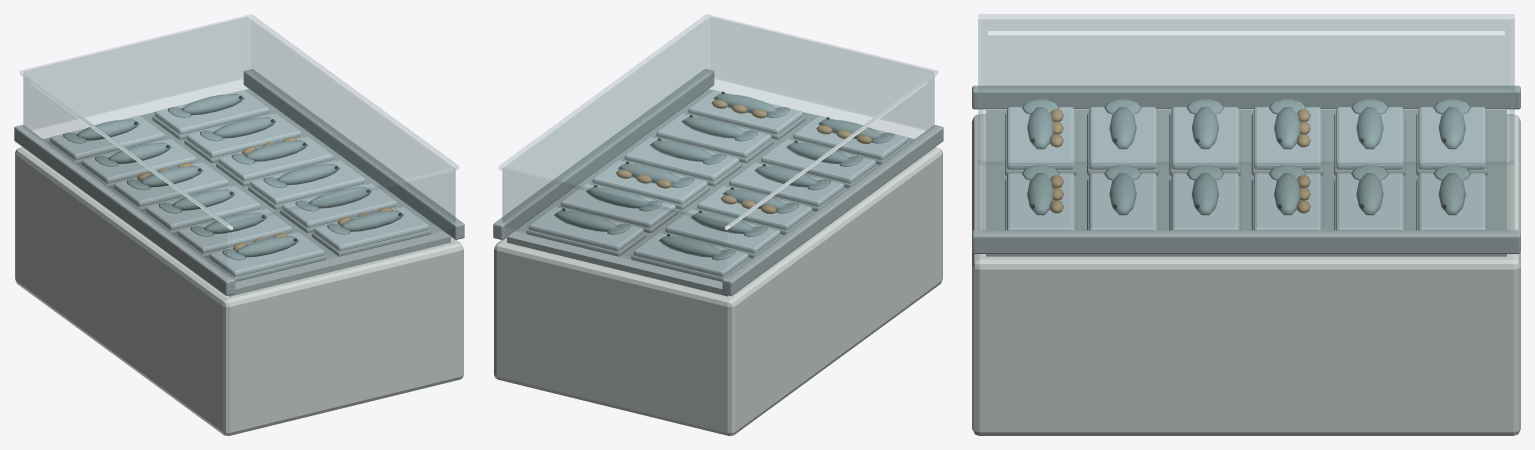
The model's file is fish.glb.
3 views of the same model, side by side, from view 1: azimuth 30°, elevation 25°; view 2: azimuth 150°, elevation 25°; view 3: azimuth 270°, elevation 25° (orthographic). The views are drawn at different scales.
Parts seen in each view (by area): view 1: fish_fixture_Smoked glass approximation, fish_fixture_Refrigerator enamel, fish_detail_ice, fish_fixture_Brushed stainless, fish_detail_Fish silvery skin, fish_fixture_Cabinet LED, fish_detail_onion; view 2: fish_fixture_Smoked glass approximation, fish_fixture_Refrigerator enamel, fish_detail_ice, fish_fixture_Brushed stainless, fish_detail_Fish silvery skin, fish_detail_onion, fish_fixture_Cabinet LED; view 3: fish_fixture_Smoked glass approximation, fish_fixture_Refrigerator enamel, fish_fixture_Brushed stainless, fish_detail_ice, fish_detail_Fish silvery skin, fish_fixture_Cabinet LED, fish_detail_onion.
Boxes of the visible parts, left/top/right/bottom form: fish_fixture_Smoked glass approximation: left=20, top=14, right=458, bottom=281; fish_fixture_Refrigerator enamel: left=15, top=98, right=463, bottom=435; fish_detail_ice: left=50, top=90, right=428, bottom=276; fish_fixture_Brushed stainless: left=14, top=69, right=464, bottom=296; fish_detail_Fish silvery skin: left=63, top=93, right=403, bottom=260; fish_fixture_Cabinet LED: left=30, top=80, right=232, bottom=229; fish_detail_onion: left=137, top=137, right=392, bottom=250; fish_fixture_Smoked glass approximation: left=499, top=14, right=937, bottom=281; fish_fixture_Refrigerator enamel: left=494, top=98, right=942, bottom=435; fish_detail_ice: left=529, top=90, right=907, bottom=276; fish_fixture_Brushed stainless: left=493, top=69, right=943, bottom=296; fish_detail_Fish silvery skin: left=554, top=93, right=894, bottom=260; fish_detail_onion: left=616, top=99, right=872, bottom=213; fish_fixture_Cabinet LED: left=725, top=80, right=927, bottom=229; fish_fixture_Smoked glass approximation: left=978, top=14, right=1514, bottom=230; fish_fixture_Refrigerator enamel: left=972, top=114, right=1520, bottom=435; fish_fixture_Brushed stainless: left=972, top=85, right=1520, bottom=256; fish_detail_ice: left=1007, top=107, right=1485, bottom=230; fish_detail_Fish silvery skin: left=1022, top=99, right=1470, bottom=215; fish_fixture_Cabinet LED: left=988, top=31, right=1504, bottom=35; fish_detail_onion: left=1050, top=109, right=1310, bottom=213.
Size of the model in its own units: 1.7 by 1.44 by 2.6.
